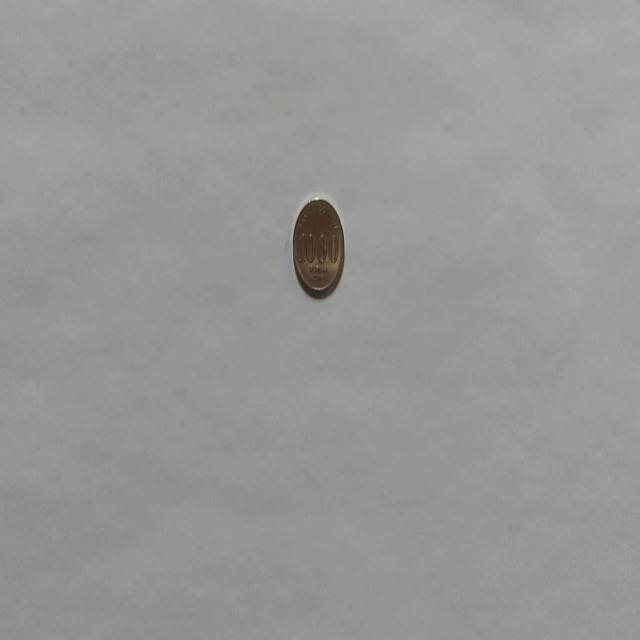seribu rupiah koin: (291, 192, 345, 299)
